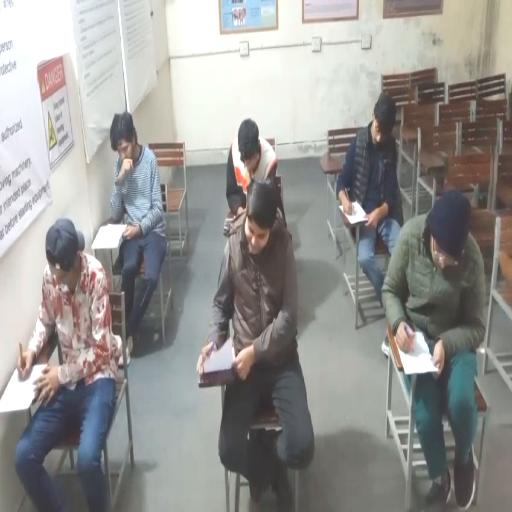paper: (0, 362, 49, 414), (394, 328, 439, 376), (200, 336, 234, 374), (91, 224, 126, 246), (339, 202, 369, 226)
